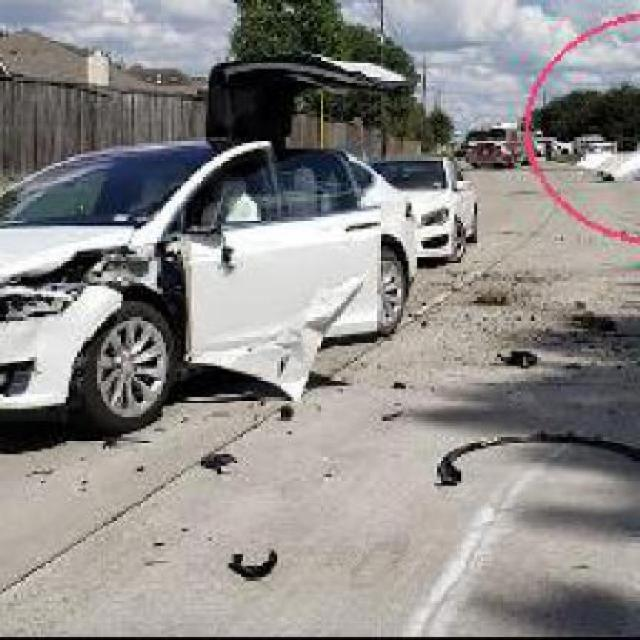damaged-head-light: (0, 274, 74, 318)
